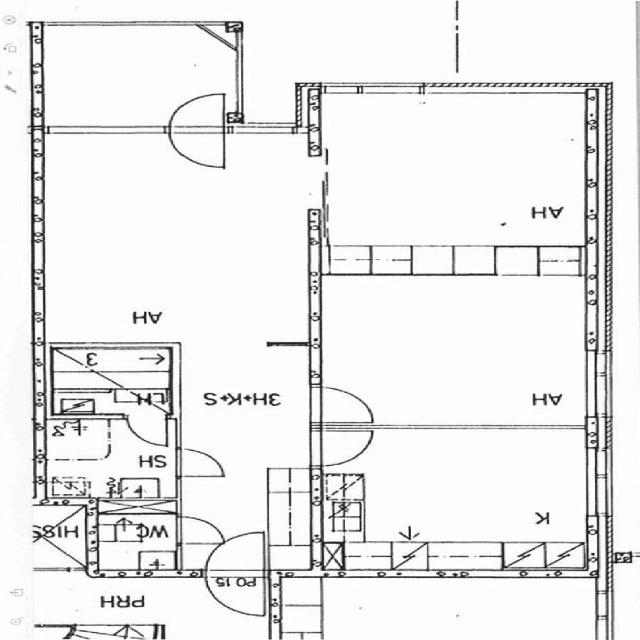door: (38, 414, 178, 506), (199, 527, 270, 619), (162, 89, 229, 172), (311, 383, 384, 425), (309, 425, 377, 467), (119, 409, 178, 449), (171, 445, 232, 482), (173, 514, 224, 546)
window: (373, 418, 585, 442), (572, 91, 612, 205), (579, 444, 620, 534), (577, 344, 619, 424), (38, 118, 172, 141), (313, 77, 427, 99), (585, 584, 618, 640)
zone: (308, 255, 595, 434), (316, 90, 597, 272), (314, 427, 590, 573), (274, 576, 596, 640), (38, 412, 178, 507), (48, 346, 174, 416), (92, 509, 180, 575), (30, 499, 87, 571), (319, 243, 372, 276)
